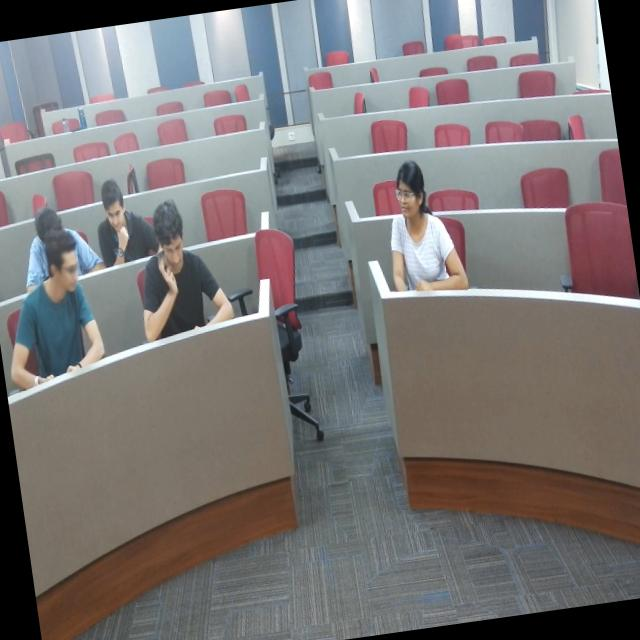cheating: (0, 227, 115, 419), (370, 162, 470, 309)
non-cheating: (126, 193, 222, 346)
